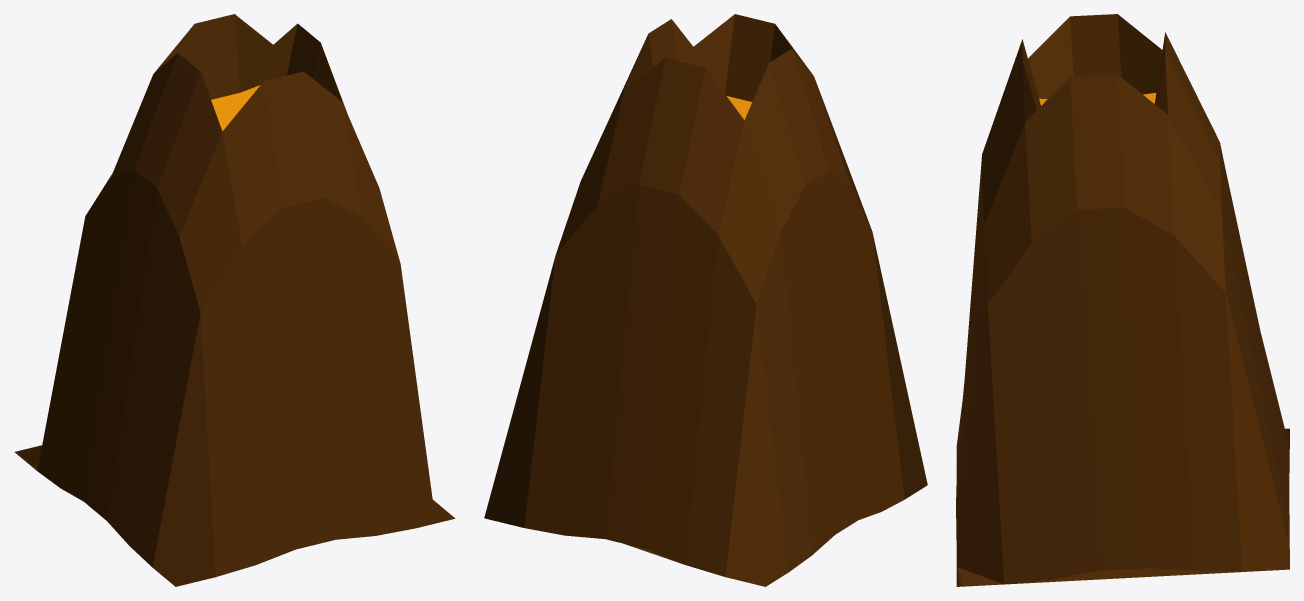
The model's file is Volcano.fbx.
3 renders of one model, left to right at view 1: azimuth 30°, elevation 25°; view 2: azimuth 150°, elevation 25°; view 3: azimuth 270°, elevation 25°, orthographic. The views are drawn at different scales.
Visible parts, largest first — view 1: volcano; view 2: volcano; view 3: volcano.
Boxes of the visible parts, bbox=[...] form: volcano: bbox=[14, 14, 455, 586]; volcano: bbox=[484, 14, 927, 586]; volcano: bbox=[956, 14, 1289, 586].
Size of the model in its own units: 248 by 248 by 389.
